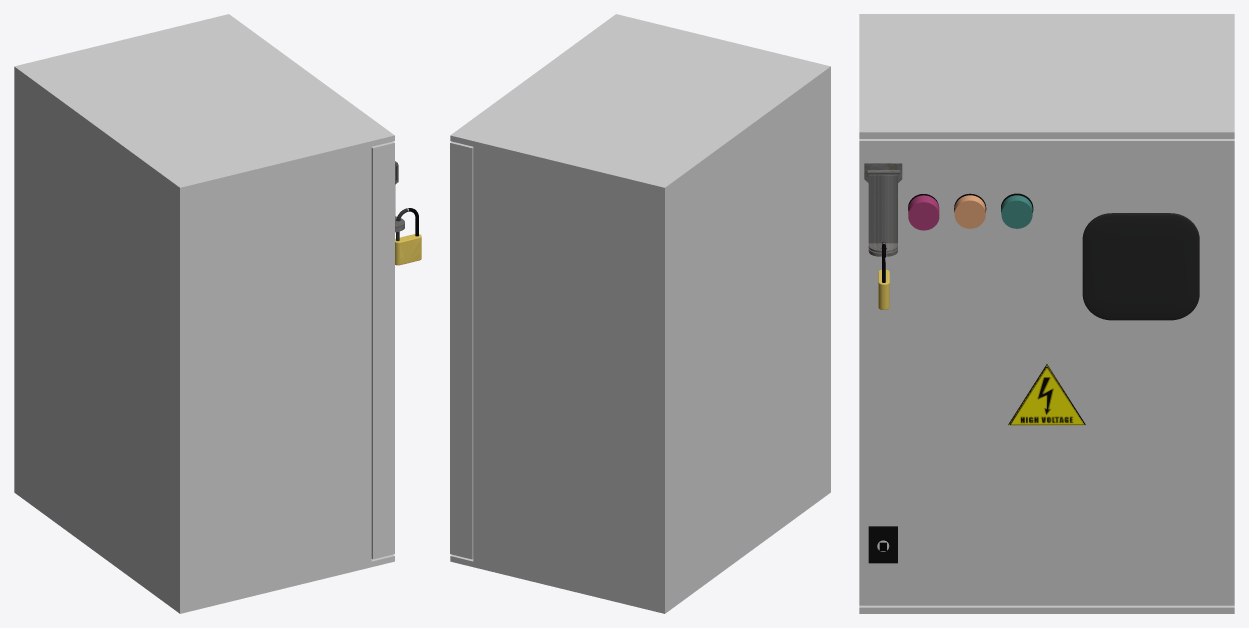
Rendered from KWH.fbx.
The picture shows the model from 3 angles, left to right: view 1: azimuth 30°, elevation 25°; view 2: azimuth 150°, elevation 25°; view 3: azimuth 270°, elevation 25°; orthographic projection. The views are drawn at different scales.
Visible parts, largest first — view 1: Cube, Cube.001, Lock.001; view 2: Cube, Cube.001; view 3: Cube.001, Cube, Cube.002, Cylinder.008, Cube.006, Cube.003, Cylinder, Cylinder.001, Cylinder.002, Cube.005.
Boxes of the visible parts, x1,y1,x2,y2 form: Cube: [14, 14, 394, 613]; Cube.001: [371, 141, 394, 559]; Lock.001: [395, 234, 421, 265]; Cube: [450, 14, 830, 613]; Cube.001: [450, 141, 473, 559]; Cube.001: [859, 139, 1234, 605]; Cube: [859, 14, 1234, 613]; Cube.002: [1082, 213, 1199, 320]; Cylinder.008: [1008, 364, 1085, 425]; Cube.006: [868, 174, 897, 252]; Cube.003: [868, 526, 897, 563]; Cylinder: [908, 195, 939, 230]; Cylinder.001: [954, 195, 985, 228]; Cylinder.002: [1001, 195, 1032, 228]; Cube.005: [864, 163, 902, 256].
Size of the model in its own units: 210 by 340 by 240.
13 materials, 3 textured.
